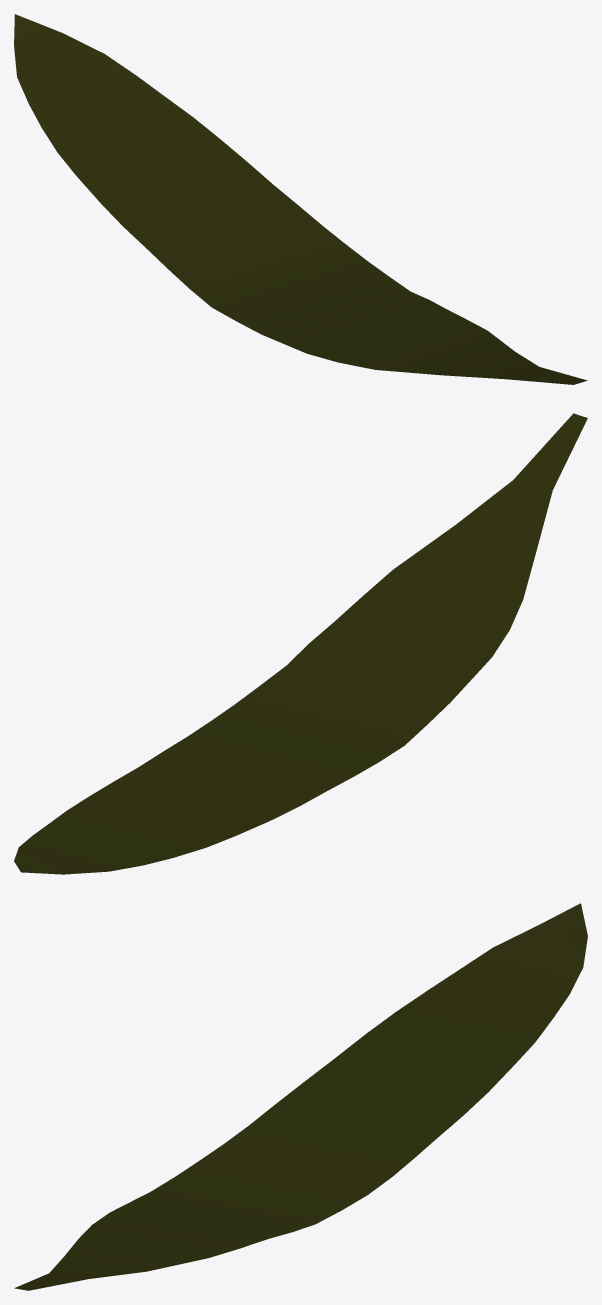
Rendered from SM_ocean_Kelp_leaf_01.fbx.
3 views of the same model, one above another, from view 1: azimuth 30°, elevation 25°; view 2: azimuth 150°, elevation 25°; view 3: azimuth 330°, elevation 25° (orthographic). The views are drawn at different scales.
Visible parts, largest first — view 1: SM_ocean_Kelp_leaf_01_LOD0; view 2: SM_ocean_Kelp_leaf_01_LOD0; view 3: SM_ocean_Kelp_leaf_01_LOD0.
Boxes of the visible parts, left/top/right/bottom form: SM_ocean_Kelp_leaf_01_LOD0: left=14, top=14, right=587, bottom=384; SM_ocean_Kelp_leaf_01_LOD0: left=14, top=413, right=587, bottom=874; SM_ocean_Kelp_leaf_01_LOD0: left=14, top=903, right=587, bottom=1290.
Size of what is drawn, in the model's own units: 11.08 by 66.09 by 6.49.
